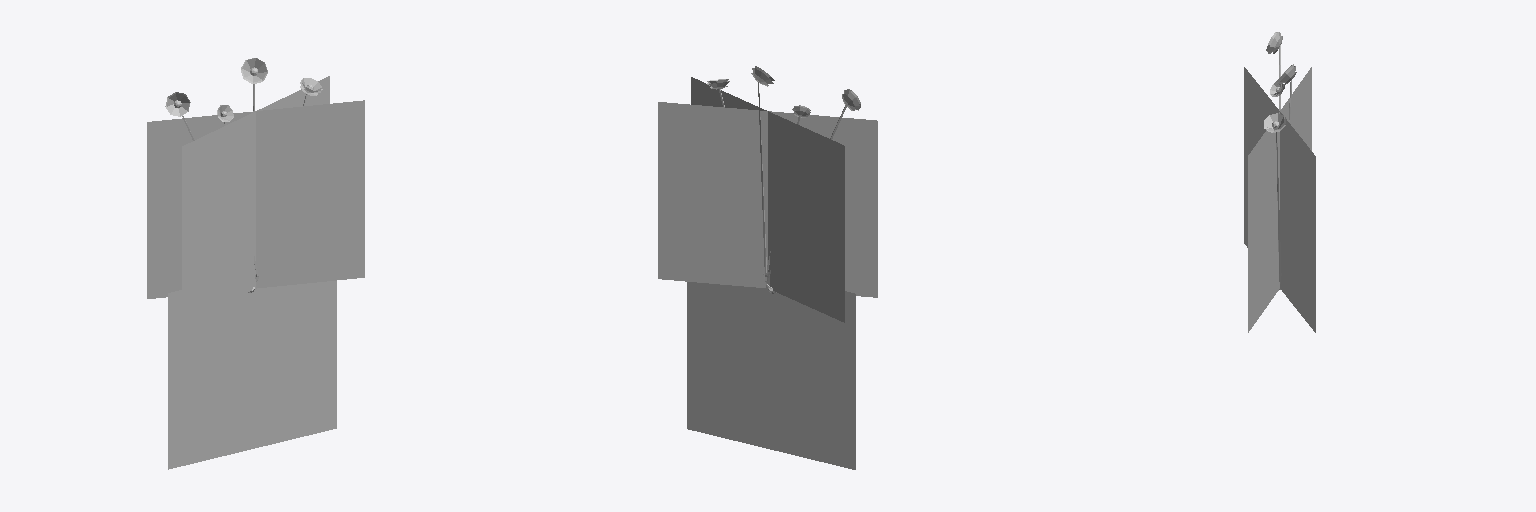
Rendered from MODEL_ranunculusGrownFlowers_G4_2.obj.
3 renders of one model, left to right at view 1: azimuth 30°, elevation 25°; view 2: azimuth 150°, elevation 25°; view 3: azimuth 270°, elevation 25°, orthographic.
Parts seen in each view (by area): view 1: geo_plantFlowers_low1 geo_roots_plane3, geo_plantFlowers_low1 geo_roots_plane, geo_plantFlowers_low1 geo_roots_plane2, geo_plantFlowers_low1 flower; view 2: geo_plantFlowers_low1 geo_roots_plane, geo_plantFlowers_low1 geo_roots_plane2, geo_plantFlowers_low1 geo_roots_plane3, geo_plantFlowers_low1; view 3: geo_plantFlowers_low1 geo_roots_plane2, geo_plantFlowers_low1 geo_roots_plane3.
Boxes of the visible parts, x1,y1,x2,y2 form: geo_plantFlowers_low1 geo_roots_plane3: [147, 100, 364, 298]; geo_plantFlowers_low1 geo_roots_plane: [168, 281, 336, 469]; geo_plantFlowers_low1 geo_roots_plane2: [182, 76, 329, 323]; geo_plantFlowers_low1 flower: [241, 58, 267, 83]; geo_plantFlowers_low1 geo_roots_plane: [687, 272, 855, 469]; geo_plantFlowers_low1 geo_roots_plane2: [658, 102, 877, 297]; geo_plantFlowers_low1 geo_roots_plane3: [691, 77, 844, 322]; geo_plantFlowers_low1: [719, 82, 846, 293]; geo_plantFlowers_low1 geo_roots_plane2: [1244, 67, 1315, 332]; geo_plantFlowers_low1 geo_roots_plane3: [1248, 67, 1311, 332].
Bounding box in the file's own units: 22.62 × 44.91 × 7.52.